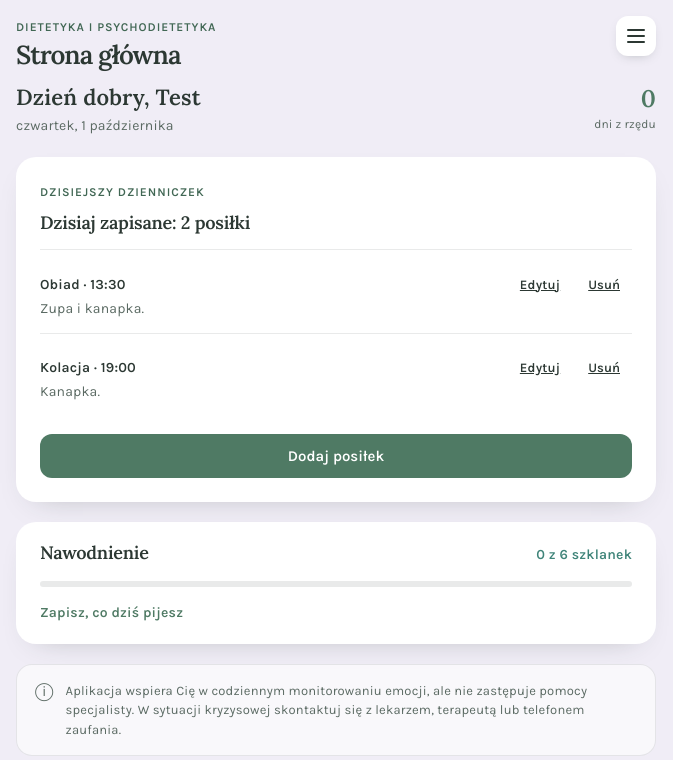
Test: today's meals are on the screen and can be corrected › redraws the day from the answer rather than patching its own copy
Click the button with aria-label "Usuń Obiad · 13:30" at x=604, y=284, box [576,262,632,306]
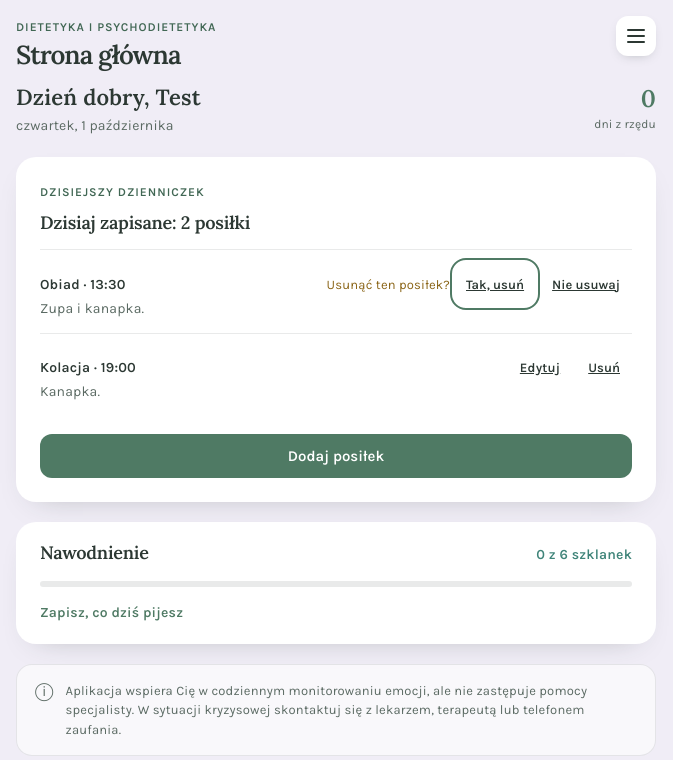
Click the button "Tak, usuń" at x=495, y=284, box [454,262,536,306]
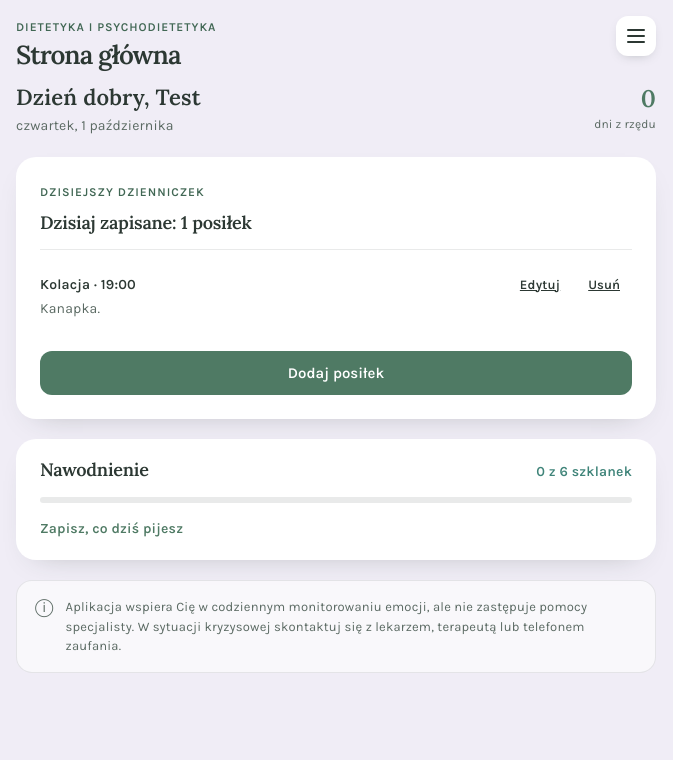
Expected: the heading "Dzisiaj zapisane: 1 posiłek" is shown, [40,211,252,234]
Expected: the text "Zupa i kanapka." is gone
